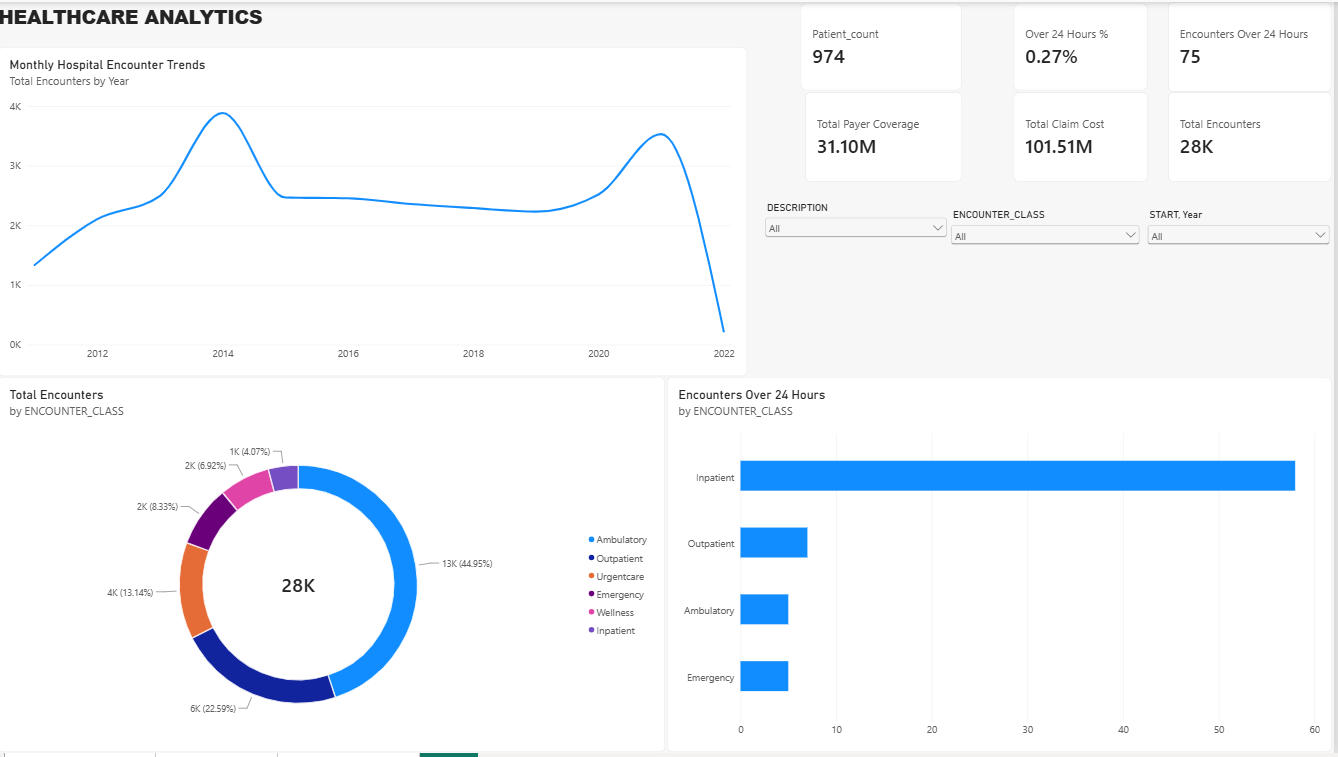

What the dashboard file says about the page in this screenshot:
{"tool":"powerbi","page":{"name":"Operations","canvas":[1920,1080],"ordinal":0},"visuals":[{"type":"cardVisual","fields":{"Data":["encounters.Total Encounters"]},"box":[1683.1,129.2,235.8,129.2],"z":0},{"type":"cardVisual","fields":{"Data":["encounters.Patient_count"]},"box":[1153.3,3.2,232.6,126],"z":1000},{"type":"cardVisual","fields":{"Data":["encounters.Total Claim Cost"]},"box":[1460.2,129.2,193.8,129.2],"z":2000},{"type":"cardVisual","fields":{"Data":["encounters.Total Payer Coverage"]},"box":[1159.8,129.2,226.1,129.2],"z":3000},{"type":"lineChart","title":"Monthly Hospital Encounter Trends","fields":{"Category":["encounters.START.Variation.Date Hierarchy.Year"],"Y":["encounters.Total Encounters"]},"box":[0,65.2,1077.2,473.4],"z":4000},{"type":"cardVisual","fields":{"Data":["encounters.Encounters Over 24 Hours"]},"box":[1683.1,0,235.8,129.2],"z":5000},{"type":"donutChart","fields":{"Category":["encounters.ENCOUNTER_CLASS"],"Y":["encounters.Total Encounters"]},"box":[0,539.5,959.5,539.5],"z":6000},{"type":"clusteredBarChart","fields":{"Category":["encounters.ENCOUNTER_CLASS"],"Y":["encounters.Encounters Over 24 Hours"]},"box":[962.7,539.5,956.2,539.5],"z":7000},{"type":"cardVisual","fields":{"Data":["encounters.Over 24 Hours %"]},"box":[1460.2,3.2,193.8,126],"z":8000},{"type":"slicer","fields":{"Values":["encounters.DESCRIPTION"]},"box":[1097,286.3,271.4,100.1],"z":9000},{"type":"slicer","fields":{"Values":["procedures.START","procedures.START.Variation.Date Hierarchy.Year"]},"box":[1647.6,297.2,271.4,77.5],"z":10000},{"type":"slicer","fields":{"Values":["encounters.ENCOUNTER_CLASS"]},"box":[1366.3,297.6,281.1,100.1],"z":11000},{"type":"textbox","box":[0,2.8,504.6,62.4],"z":12000}]}

Visuals, with their boxes in screenshot pixels (x1, y1, x2, y2), scaled from the page's 1920x1080 canvas onto the 1338x757 screenshot:
cardVisual - encounters.Total Encounters: <region>1173, 91, 1337, 181</region>
cardVisual - encounters.Patient_count: <region>804, 2, 966, 91</region>
cardVisual - encounters.Total Claim Cost: <region>1018, 91, 1153, 181</region>
cardVisual - encounters.Total Payer Coverage: <region>808, 91, 966, 181</region>
"Monthly Hospital Encounter Trends" lineChart: <region>0, 46, 751, 378</region>
cardVisual - encounters.Encounters Over 24 Hours: <region>1173, 0, 1337, 91</region>
donutChart - encounters.ENCOUNTER_CLASS x encounters.Total Encounters: <region>0, 378, 669, 756</region>
clusteredBarChart - encounters.ENCOUNTER_CLASS x encounters.Encounters Over 24 Hours: <region>671, 378, 1337, 756</region>
cardVisual - encounters.Over 24 Hours %: <region>1018, 2, 1153, 91</region>
slicer - encounters.DESCRIPTION: <region>764, 201, 954, 271</region>
slicer - procedures.START x procedures.START.Variation.Date Hierarchy.Year: <region>1148, 208, 1337, 263</region>
slicer - encounters.ENCOUNTER_CLASS: <region>952, 209, 1148, 279</region>
textbox: <region>0, 2, 352, 46</region>
